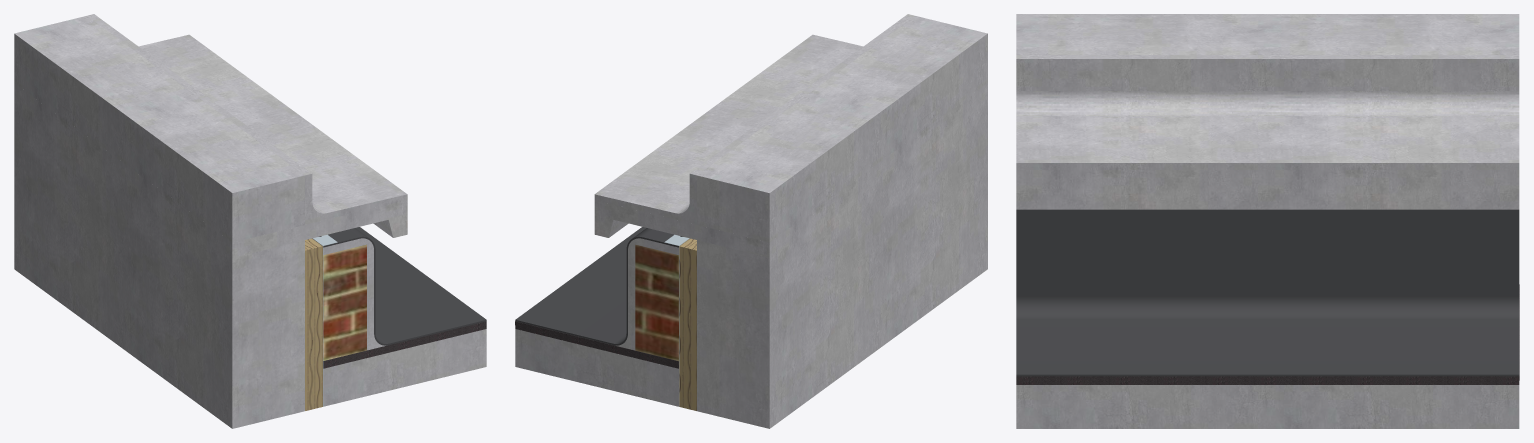
The model's file is high-low-roof-joint-02.glb.
3 views of the same model, side by side, from view 1: azimuth 30°, elevation 25°; view 2: azimuth 150°, elevation 25°; view 3: azimuth 270°, elevation 25° (orthographic). The views are drawn at different scales.
Visible parts, largest first — view 1: 高墙, 盖板面层, 防水层, 钢筋混凝土盖板, 低屋面结构板, 砖砌矮墙, 沥青麻丝, 砂浆圆弧基层, 下找平层, 上找平层; view 2: 高墙, 盖板面层, 防水层, 钢筋混凝土盖板, 低屋面结构板, 砖砌矮墙, 沥青麻丝, 砂浆圆弧基层, 上找平层, 下找平层; view 3: 防水层, 盖板面层, 低屋面结构板, 高墙, 上找平层, 下找平层.
Boxes of the visible parts, box(x1,y1,x2,y2) form: 高墙: box(14, 16, 304, 428); 盖板面层: box(87, 14, 407, 237); 防水层: box(323, 227, 486, 345); 钢筋混凝土盖板: box(14, 83, 403, 257); 低屋面结构板: box(323, 329, 486, 406); 砖砌矮墙: box(323, 244, 366, 360); 沥青麻丝: box(305, 238, 322, 410); 砂浆圆弧基层: box(323, 238, 385, 350); 下找平层: box(323, 325, 486, 368); 上找平层: box(323, 321, 486, 364); 高墙: box(697, 16, 987, 428); 盖板面层: box(594, 14, 914, 237); 防水层: box(515, 227, 678, 345); 钢筋混凝土盖板: box(599, 83, 987, 257); 低屋面结构板: box(515, 329, 678, 406); 砖砌矮墙: box(635, 244, 678, 360); 沥青麻丝: box(679, 238, 696, 410); 砂浆圆弧基层: box(616, 238, 678, 350); 上找平层: box(515, 321, 678, 364); 下找平层: box(515, 325, 678, 368); 防水层: box(1016, 209, 1519, 376); 盖板面层: box(1016, 55, 1519, 209); 低屋面结构板: box(1016, 385, 1519, 428); 高墙: box(1016, 14, 1519, 54); 上找平层: box(1016, 284, 1519, 380); 下找平层: box(1016, 380, 1519, 384).
Bounding box in the file's own units: 0.7 × 0.62 × 1.04.
12 materials, 9 textured.
